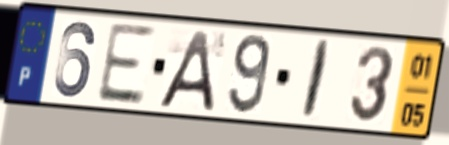3: (346, 44, 395, 126)
6: (53, 19, 97, 100)
9: (227, 32, 273, 117)
A: (155, 28, 217, 113)
E: (93, 20, 157, 107)
I: (298, 37, 334, 123)
